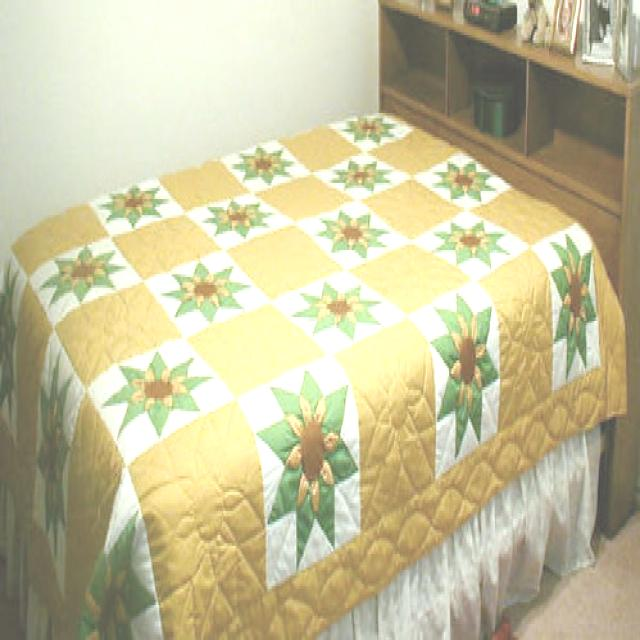bed: (4, 100, 607, 640)
